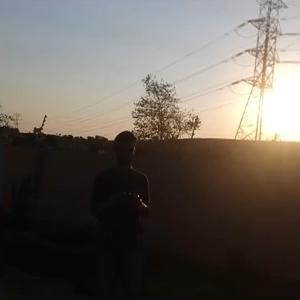follow: (88, 128, 152, 298)
